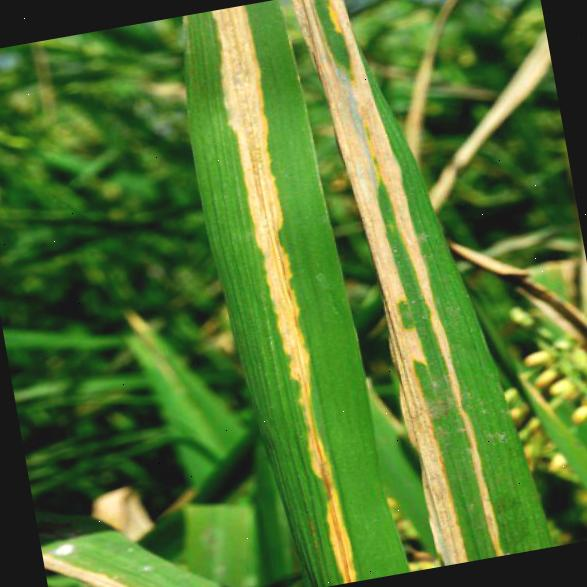Bacteria_Leaf_Blight: (295, 0, 523, 567), (199, 0, 375, 584)
